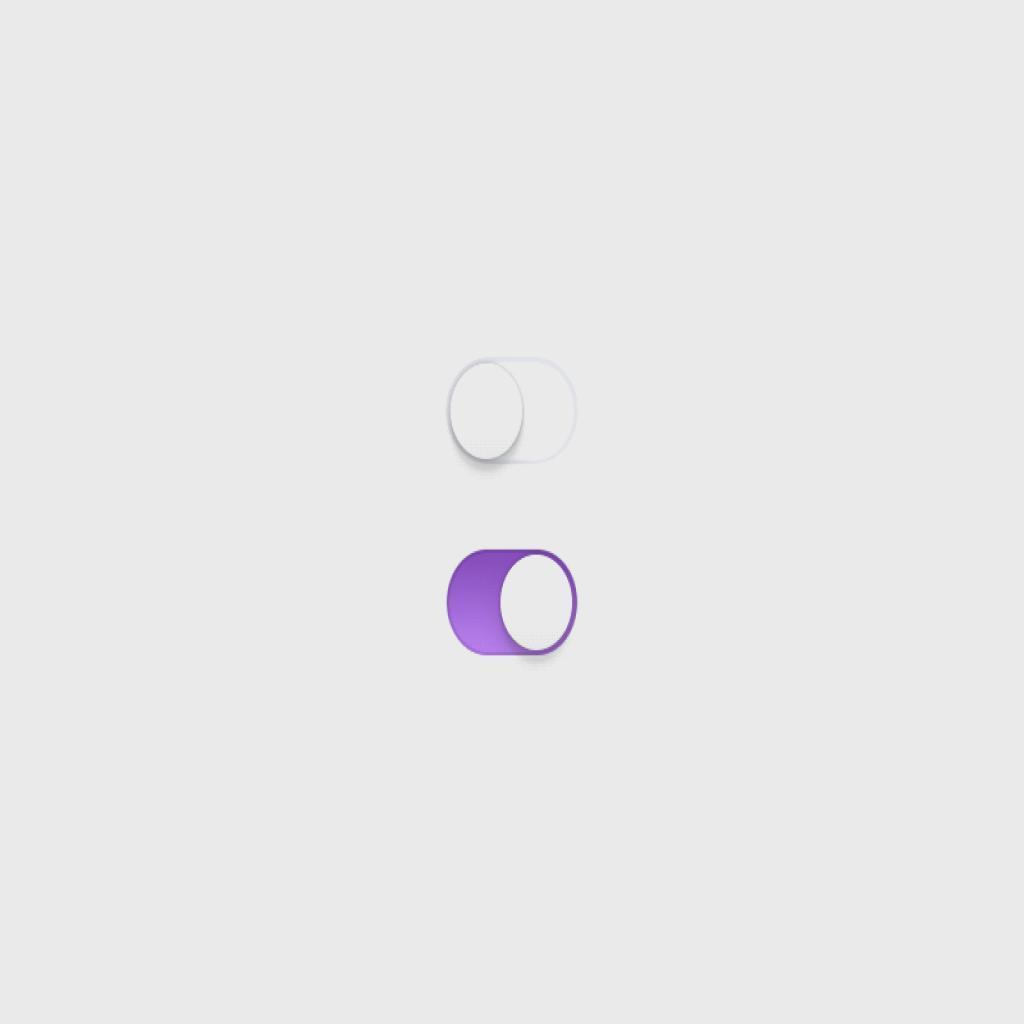switch: (448, 359, 583, 469), (447, 548, 579, 660)
